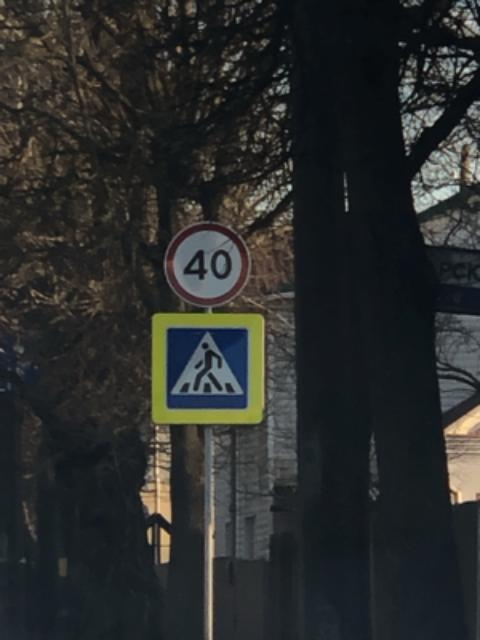crosswalk-sign: (150, 310, 266, 426)
